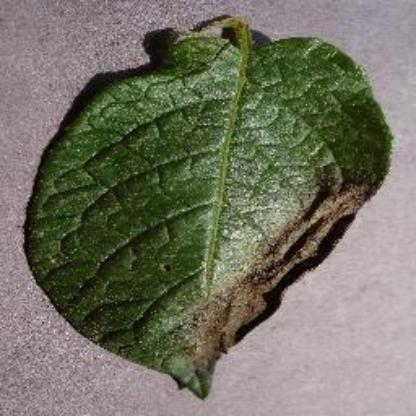Late-Blight: (19, 23, 393, 401)
